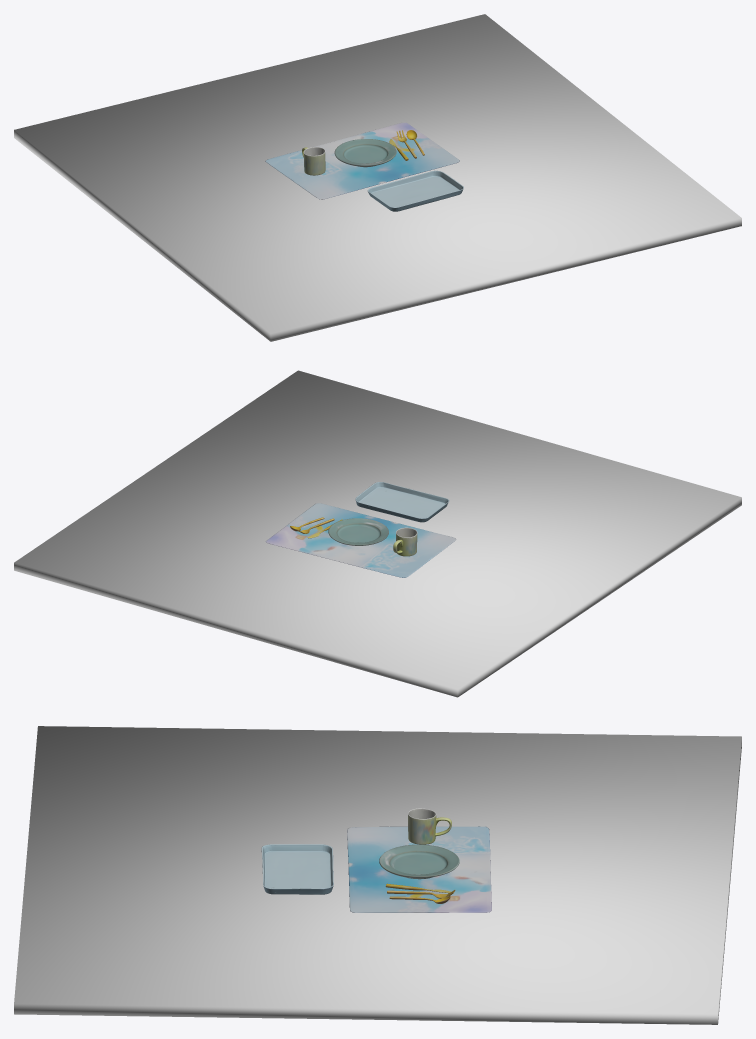
The model's file is rest3d.glb.
The picture shows the model from 3 angles, top to bottom: view 1: azimuth 30°, elevation 25°; view 2: azimuth 150°, elevation 25°; view 3: azimuth 270°, elevation 25°; orthographic projection. The views are drawn at different scales.
Visible parts, largest first — view 1: ground, World; view 2: ground, World; view 3: ground, World.
Boxes of the visible parts, x1,y1,x2,y2 form: ground: [14, 14, 741, 341]; World: [265, 122, 463, 211]; ground: [14, 370, 741, 697]; World: [265, 482, 456, 577]; ground: [14, 726, 741, 1024]; World: [261, 808, 491, 912].
Size of the model in its own units: 3.03 by 0.2111 by 3.1.
